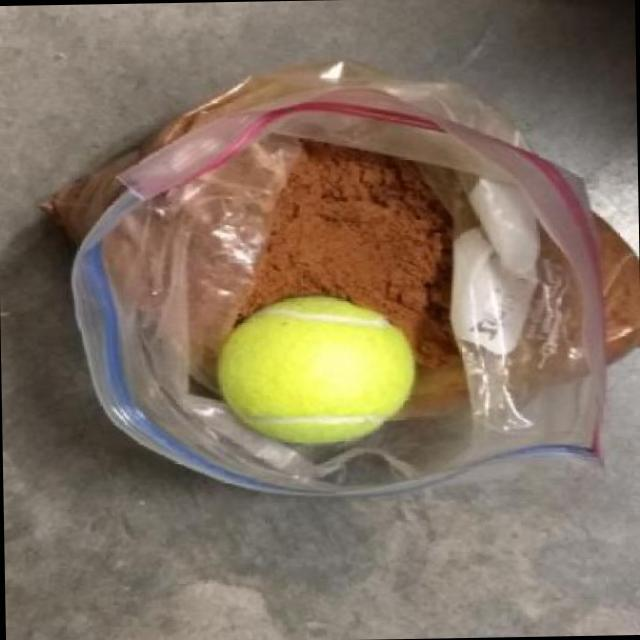-: (221, 273, 410, 464)
